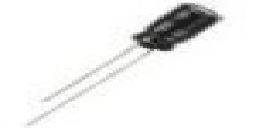Electrolytic-Capacitor: (23, 1, 224, 128)
